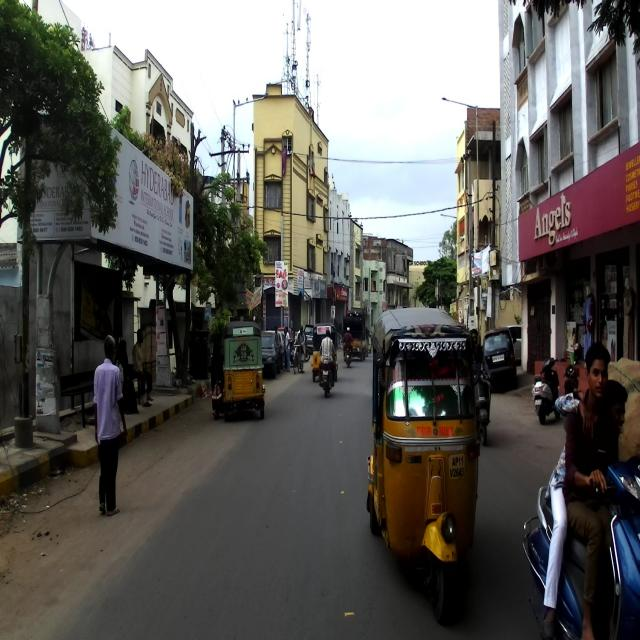autorickshaw: (366, 306, 485, 624)
scooter: (522, 453, 639, 639), (530, 356, 559, 424)
